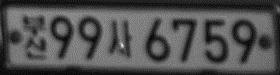5: (203, 19, 228, 64)
6: (144, 17, 171, 62)
7: (171, 17, 198, 62)
9: (77, 15, 103, 60), (231, 18, 257, 63), (49, 14, 74, 59)
부산_V: (22, 13, 48, 60)
사: (107, 19, 133, 60)
